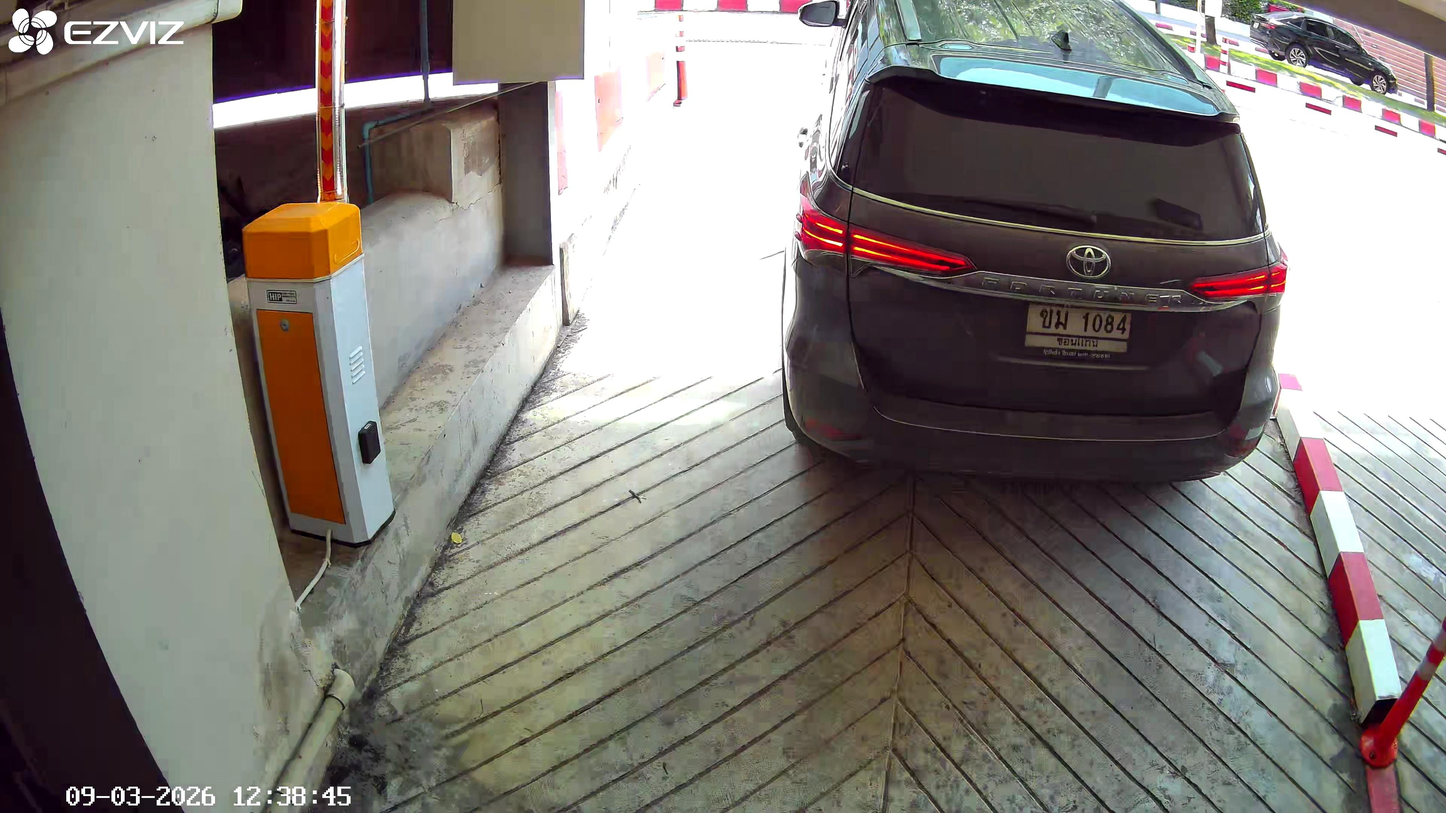car: (779, 18, 1288, 482)
license-plate: (1022, 296, 1135, 360)
